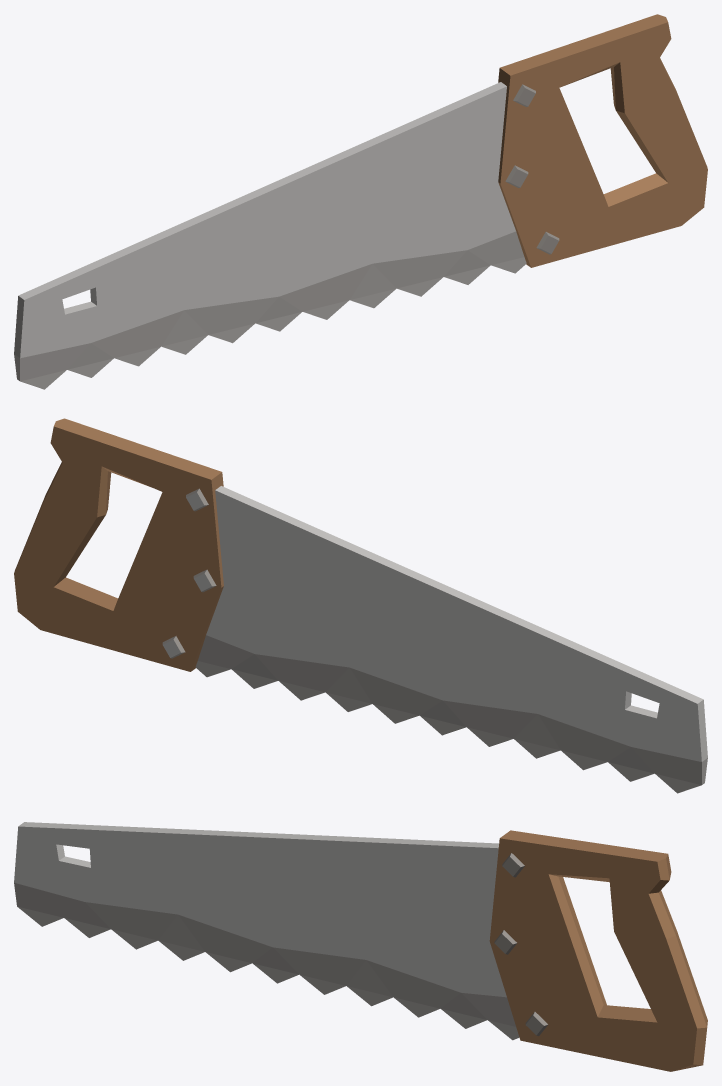
The model's file is SM_Item_Saw_01.fbx.
The picture shows the model from 3 angles, top to bottom: view 1: azimuth 30°, elevation 25°; view 2: azimuth 150°, elevation 25°; view 3: azimuth 330°, elevation 25°; orthographic projection.
Parts seen in each view (by area): view 1: SM_Item_Saw_01; view 2: SM_Item_Saw_01; view 3: SM_Item_Saw_01.
Part boxes in pixels (x1,y1,x2,y2): SM_Item_Saw_01: (14, 14, 707, 389); SM_Item_Saw_01: (14, 418, 707, 793); SM_Item_Saw_01: (14, 822, 707, 1071).
Size of the model in its own units: 76.05 by 23.12 by 2.92.
